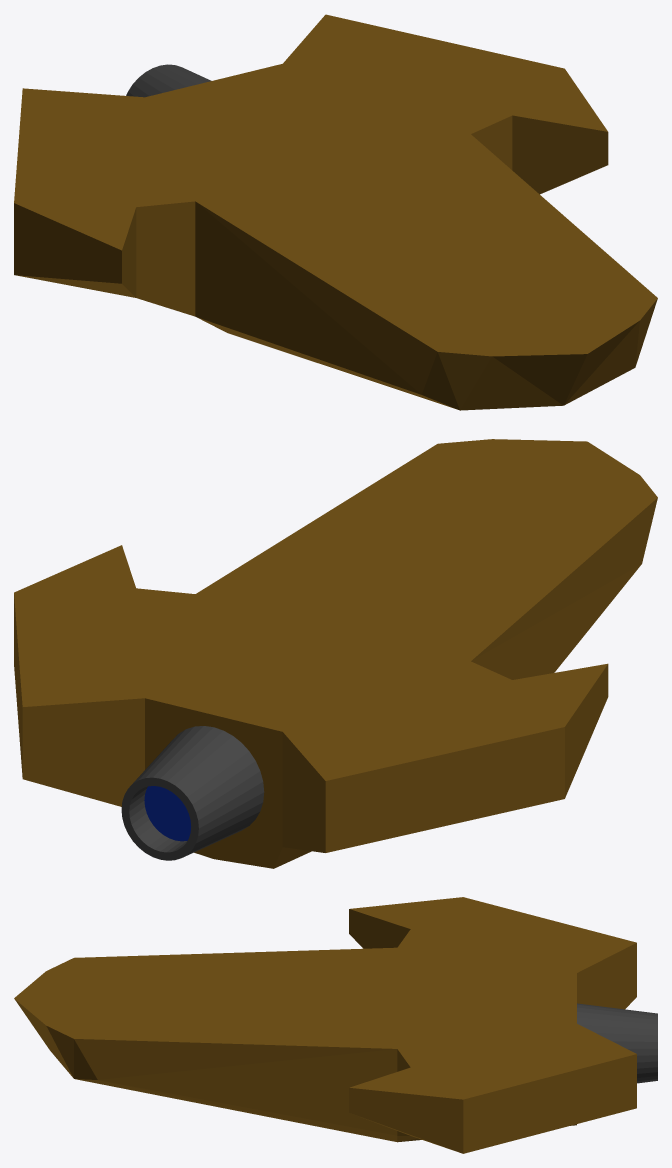
File: ship.obj
3 views of the same model, one above another, from view 1: azimuth 30°, elevation 25°; view 2: azimuth 150°, elevation 25°; view 3: azimuth 270°, elevation 25° (orthographic). The views are drawn at different scales.
Visible parts, largest first — view 1: Cube_Cube.001, Cylinder; view 2: Cube_Cube.001, Cylinder; view 3: Cube_Cube.001, Cylinder.
Boxes of the visible parts, x1,y1,x2,y2 form: Cube_Cube.001: (14, 14, 657, 410); Cylinder: (126, 64, 211, 97); Cube_Cube.001: (14, 439, 657, 868); Cylinder: (121, 726, 264, 860); Cube_Cube.001: (14, 897, 636, 1153); Cylinder: (577, 1003, 657, 1083).
Size of the model in its own units: 40 by 10 by 53.75.
